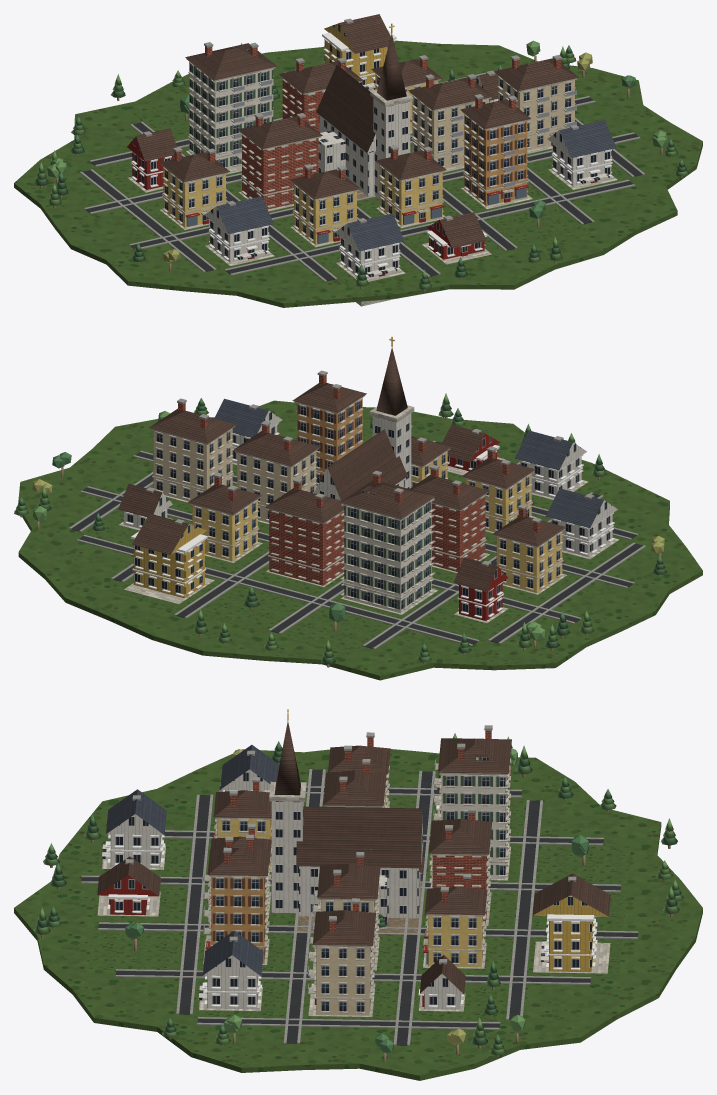
File: city_nordic_large.gltf
3 views of the same model, one above another, from view 1: azimuth 30°, elevation 25°; view 2: azimuth 150°, elevation 25°; view 3: azimuth 270°, elevation 25° (orthographic). The views are drawn at different scales.
Visible parts, largest first — view 1: city_nordic_large; view 2: city_nordic_large; view 3: city_nordic_large.
Part boxes in pixels (bbox=[...]): city_nordic_large: bbox=[14, 14, 702, 307]; city_nordic_large: bbox=[14, 336, 702, 680]; city_nordic_large: bbox=[14, 709, 702, 1080].
Size of the model in its own units: 4.39 by 1.39 by 3.88.
Materials: 23 (15 with a texture image).
